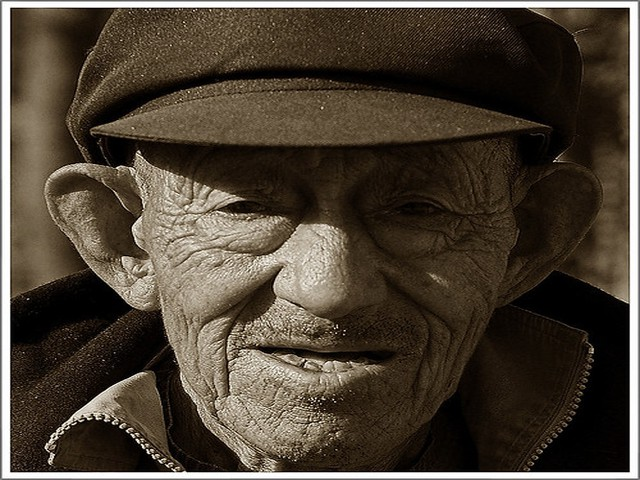Person: (36, 13, 608, 464)
